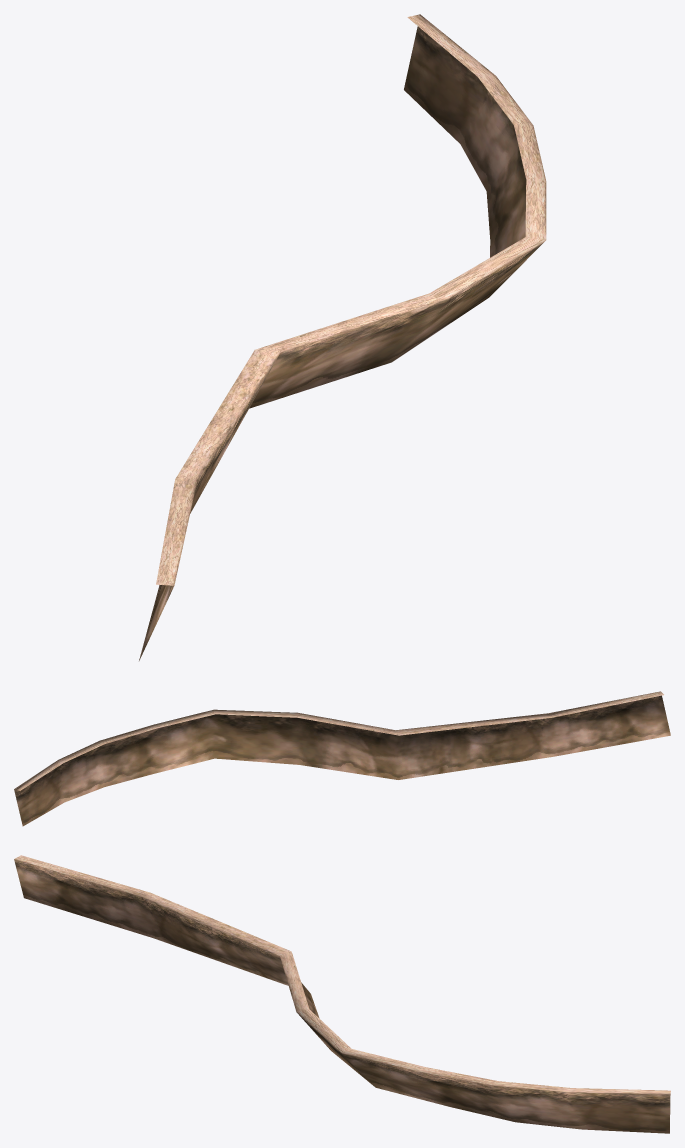
File: OVERHILL_A_01_CAVE_LEDGE.fbx
3 views of the same model, one above another, from view 1: azimuth 30°, elevation 25°; view 2: azimuth 150°, elevation 25°; view 3: azimuth 270°, elevation 25° (orthographic). The views are drawn at different scales.
Parts seen in each view (by area): view 1: OVERHILL_A_01_CAVE_LEDGE; view 2: OVERHILL_A_01_CAVE_LEDGE; view 3: OVERHILL_A_01_CAVE_LEDGE.
Boxes of the visible parts, <box> form: OVERHILL_A_01_CAVE_LEDGE: <box>139,14,546,660</box>; OVERHILL_A_01_CAVE_LEDGE: <box>14,691,670,826</box>; OVERHILL_A_01_CAVE_LEDGE: <box>14,855,670,1133</box>.
Size of the model in its own units: 41006 by 3769 by 46685.
1 material, 1 textured.
